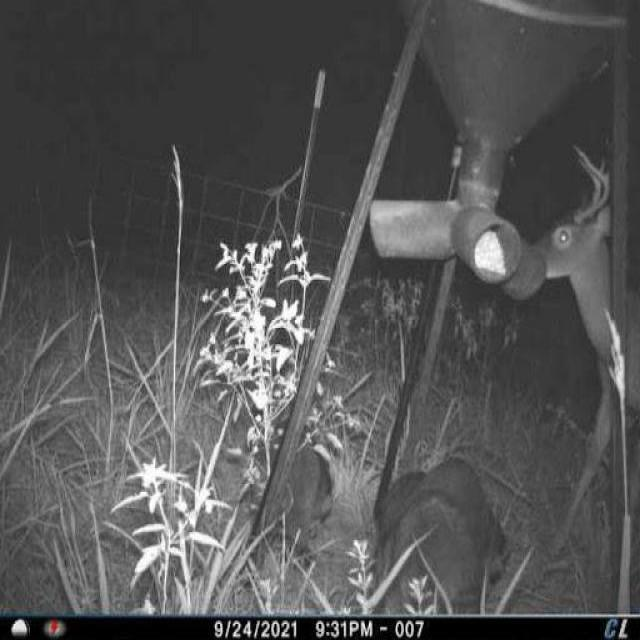deer: (511, 137, 640, 580)
